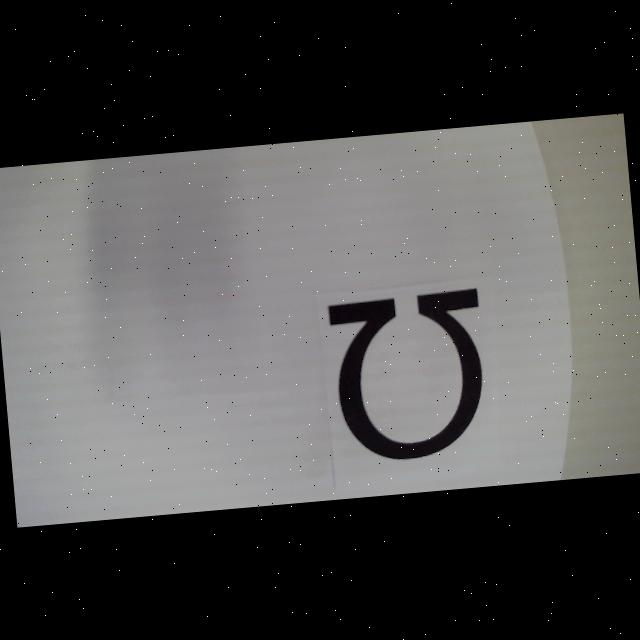OMEGA: (328, 288, 492, 465)
